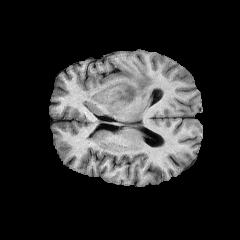glioma: (111, 68, 157, 116)
